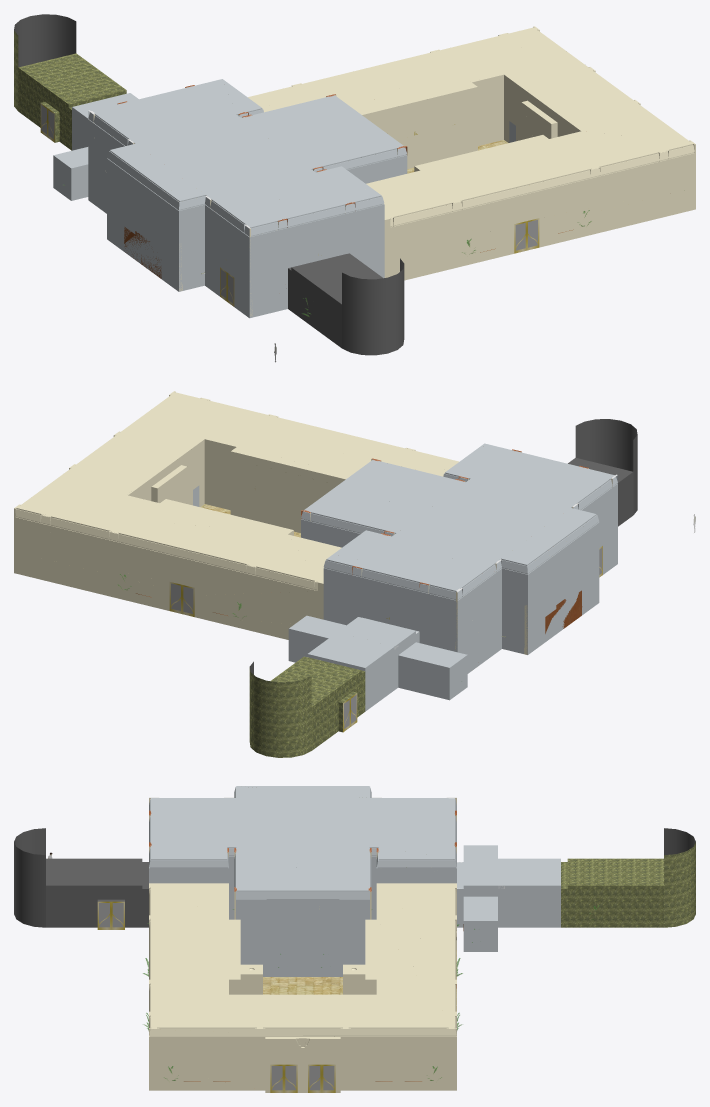
Rendered from hotel-lobby.glb.
3 views of the same model, one above another, from view 1: azimuth 30°, elevation 25°; view 2: azimuth 150°, elevation 25°; view 3: azimuth 270°, elevation 25° (orthographic). The views are drawn at different scales.
Visible parts, largest first — view 1: rest 1 1, rest -3 0, ceiling -2 0, ceiling 0 1, rest -2 -4, rest -1 1, rest -2 1, ceiling 0 -2, ceiling -2 -1, rest -3 1, rest 2 1, ceiling -1 0 (+22 smaller); view 2: rest 1 -2, rest -3 -1, rest -2 -4, ceiling -2 0, rest -1 -2, rest -2 -2, ceiling 0 -2, rest -2 -3, ceiling 0 1, ceiling -2 -1, rest -3 -2, rest 1 0 (+22 smaller); view 3: rest -2 -3, rest -2 2, rest 0 0, rest 2 -1, ceiling -2 0, rest -2 -4, rest 2 0, ceiling 0 1, ceiling 0 -2, rest 2 1, ceiling -2 -1, rest 0 -1 (+23 smaller).
Part boxes in pixels (<box>): rest 1 1: <box>392,144,694,250</box>; rest -3 0: <box>108,158,219,291</box>; ceiling -2 0: <box>205,79,310,227</box>; ceiling 0 1: <box>389,144,691,218</box>; rest -2 -4: <box>14,14,125,137</box>; rest -1 1: <box>347,204,513,280</box>; rest -2 1: <box>250,195,384,317</box>; ceiling 0 -2: <box>248,27,532,108</box>; ceiling -2 -1: <box>136,79,250,226</box>; rest -3 1: <box>205,195,287,317</box>; rest 2 1: <box>540,144,695,225</box>; ceiling -1 0: <box>242,118,406,171</box>; rest 1 -2: <box>15,508,316,613</box>; rest -3 -1: <box>458,517,594,666</box>; rest -2 -4: <box>249,657,360,757</box>; ceiling -2 0: <box>329,475,614,558</box>; rest -1 -2: <box>195,563,361,662</box>; rest -2 -2: <box>324,559,456,691</box>; ceiling 0 -2: <box>17,508,318,582</box>; rest -2 -3: <box>304,632,398,728</box>; ceiling 0 1: <box>176,392,458,473</box>; ceiling -2 -1: <box>327,477,608,559</box>; rest -3 -2: <box>398,563,500,700</box>; rest 1 0: <box>204,439,335,531</box>; rest -2 -3: <box>498,858,663,927</box>; rest -2 2: <box>33,828,142,929</box>; rest 0 0: <box>234,890,360,994</box>; rest 2 -1: <box>303,1027,456,1092</box>; ceiling -2 0: <box>151,798,452,858</box>; rest -2 -4: <box>568,828,695,927</box>; rest 2 0: <box>154,1027,334,1092</box>; ceiling 0 1: <box>149,886,228,1026</box>; ceiling 0 -2: <box>377,886,456,1027</box>; rest 2 1: <box>149,1015,302,1090</box>; ceiling -2 -1: <box>157,798,453,858</box>; rest 0 -1: <box>278,890,371,994</box>.
Size of the model in its own units: 18.17 by 3.25 by 23.46.
26 materials, 14 textured.
